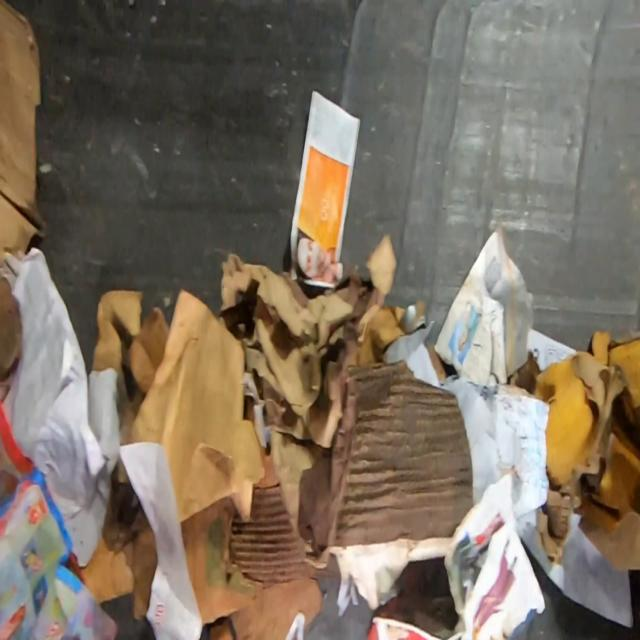cardboard: (218, 230, 406, 537), (90, 287, 266, 521), (300, 358, 473, 579), (508, 327, 640, 573), (180, 446, 324, 640), (77, 458, 156, 621), (0, 276, 22, 381), (427, 342, 447, 381)
soft_plastic: (0, 246, 107, 521)
